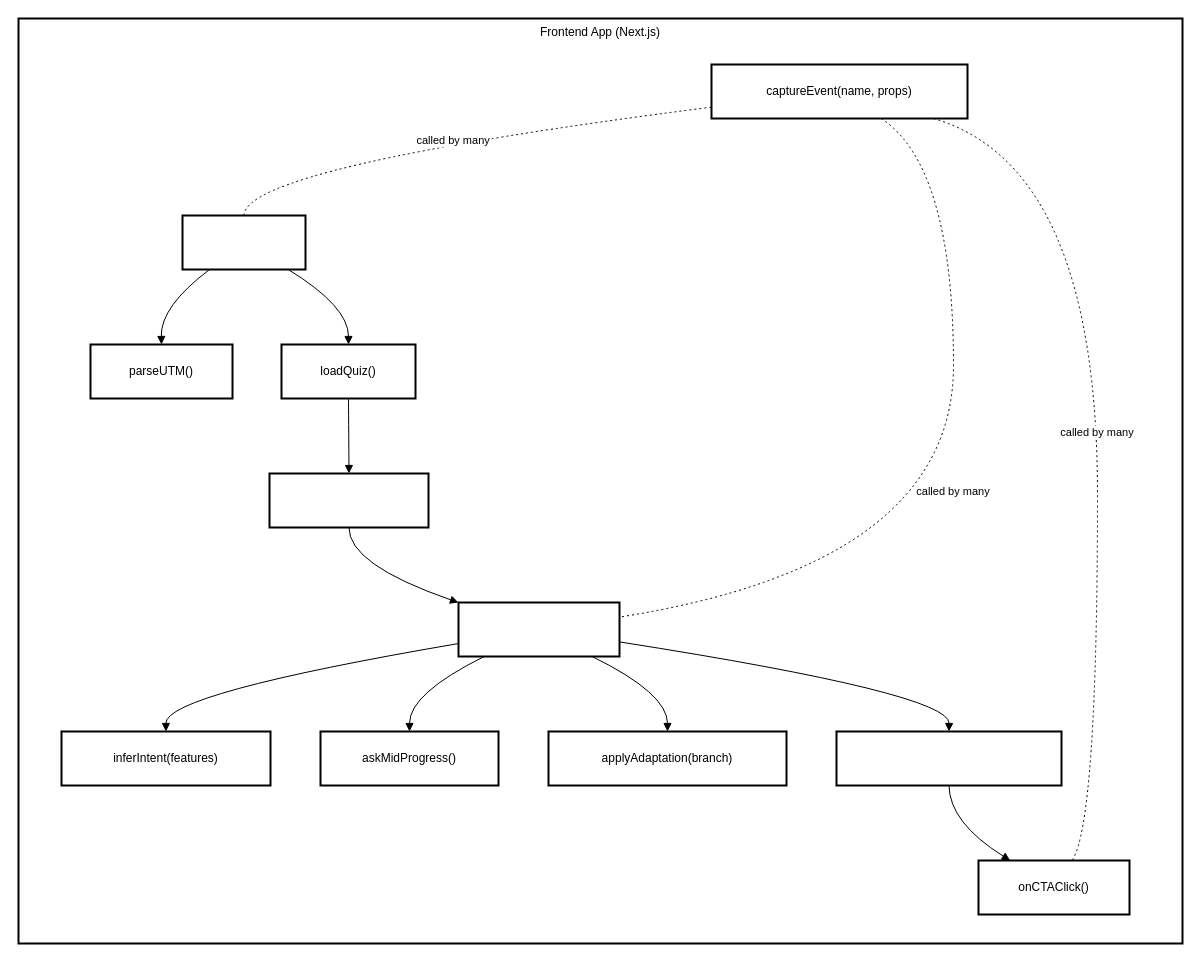
Image size: 1200x961. Some labels were removed from this diagram. Here are the shapes that lost their labels. From the top down, the centre of each, then its label:
At point 243,242: "initApp()".
At point 348,500: "onStartClick()".
At point 538,629: "runQuizLoop()".
At point 948,758: "pickOutro(intent,baby)".
